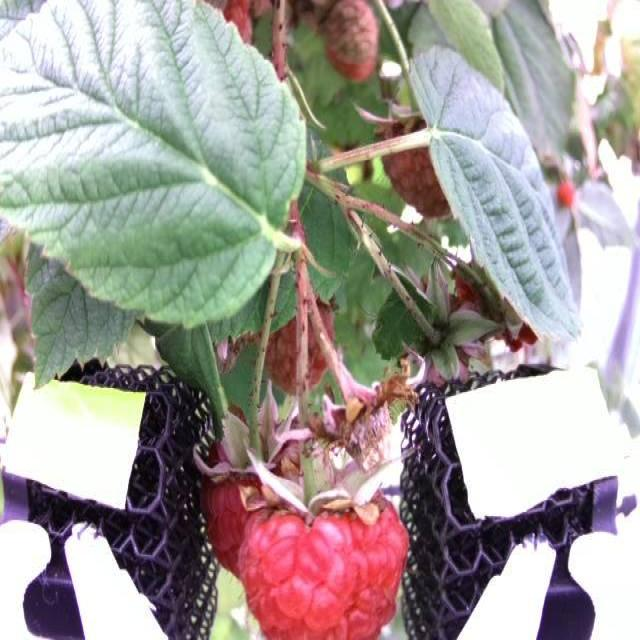Riped berries: (248, 486, 409, 640), (208, 437, 299, 558)
